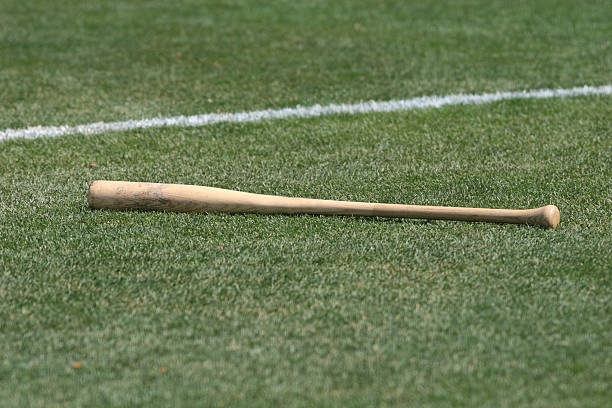bita: (88, 174, 563, 228)
